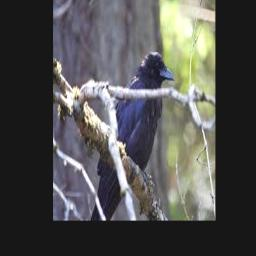Crow: (90, 51, 174, 221)
